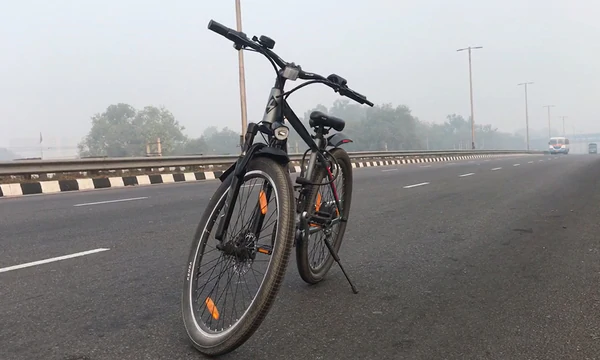cycle: (163, 11, 394, 356)
